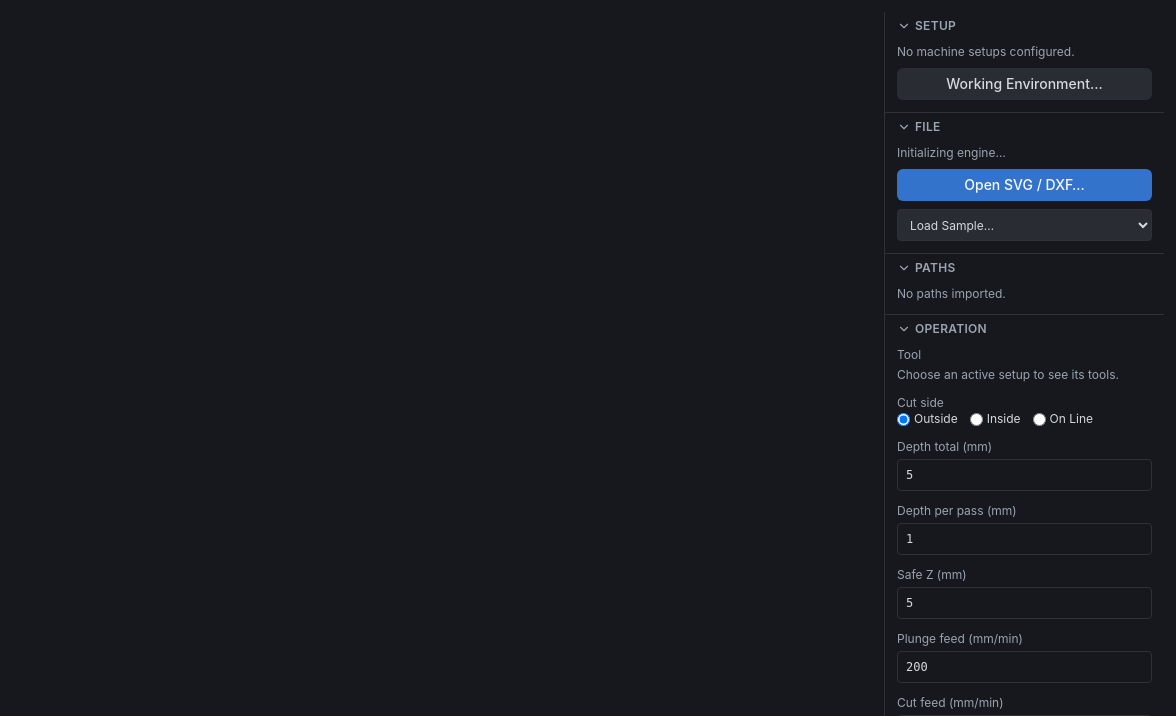
it: Mode2ProfileMode › fetches and parses the DXF sample when chosen
Select "Octagon (DXF)" in the dropdown named "Load Sample": (1024, 225) [897,209,1152,241]
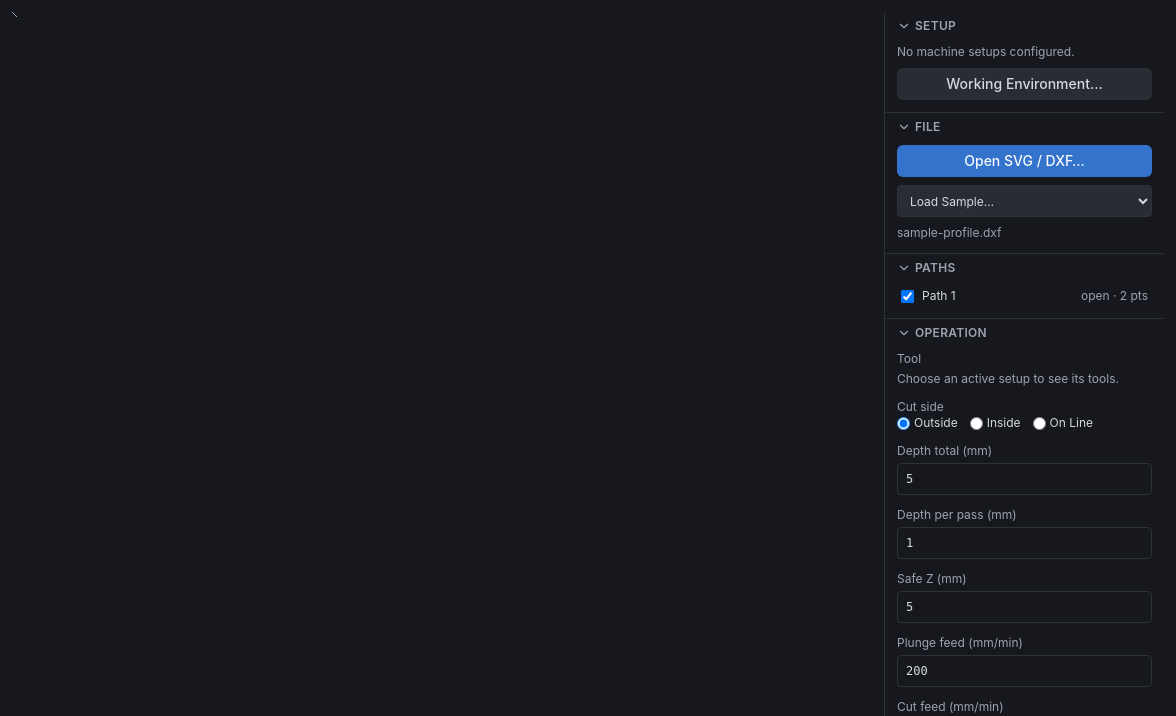
Check: the text "sample-profile.dxf" is shown, box [897,225,1002,240]
